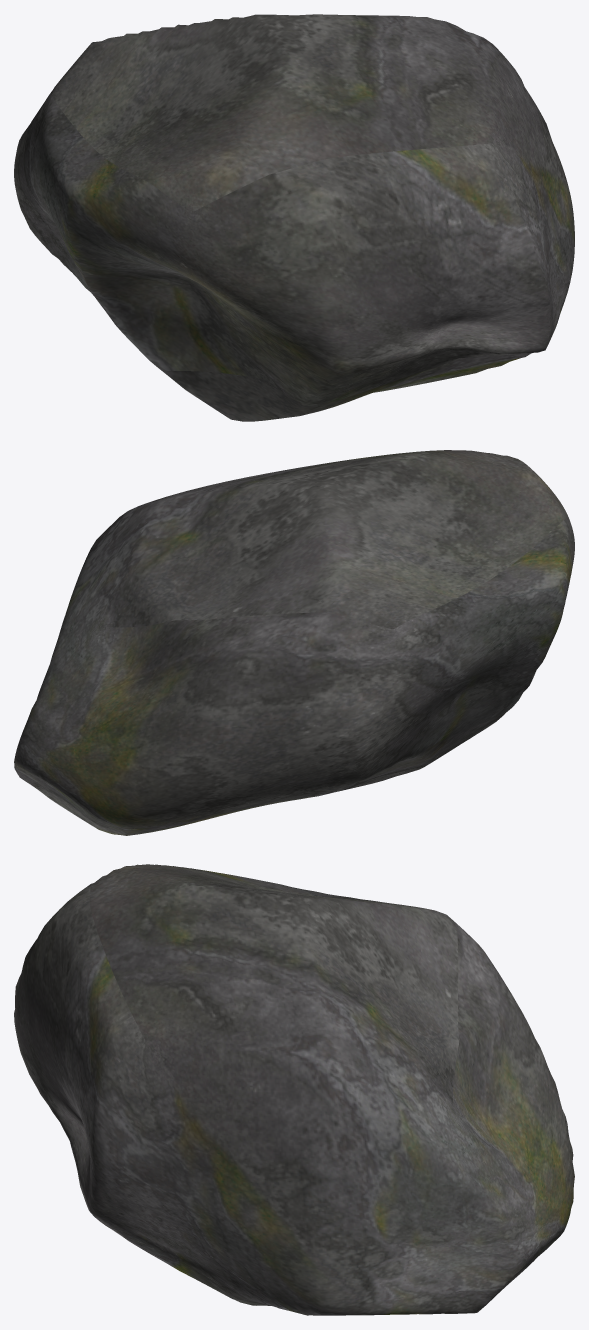
File: RockVariant3.fbx
3 renders of one model, top to bottom at view 1: azimuth 30°, elevation 25°; view 2: azimuth 150°, elevation 25°; view 3: azimuth 270°, elevation 25°, orthographic. The views are drawn at different scales.
Visible parts, largest first — view 1: Cube.002; view 2: Cube.002; view 3: Cube.002.
Boxes of the visible parts, x1,y1,x2,y2 form: Cube.002: (14,14,574,421); Cube.002: (14,450,574,835); Cube.002: (14,864,574,1315).
Size of the model in its own units: 193 by 131 by 192.
1 material, 1 textured.
